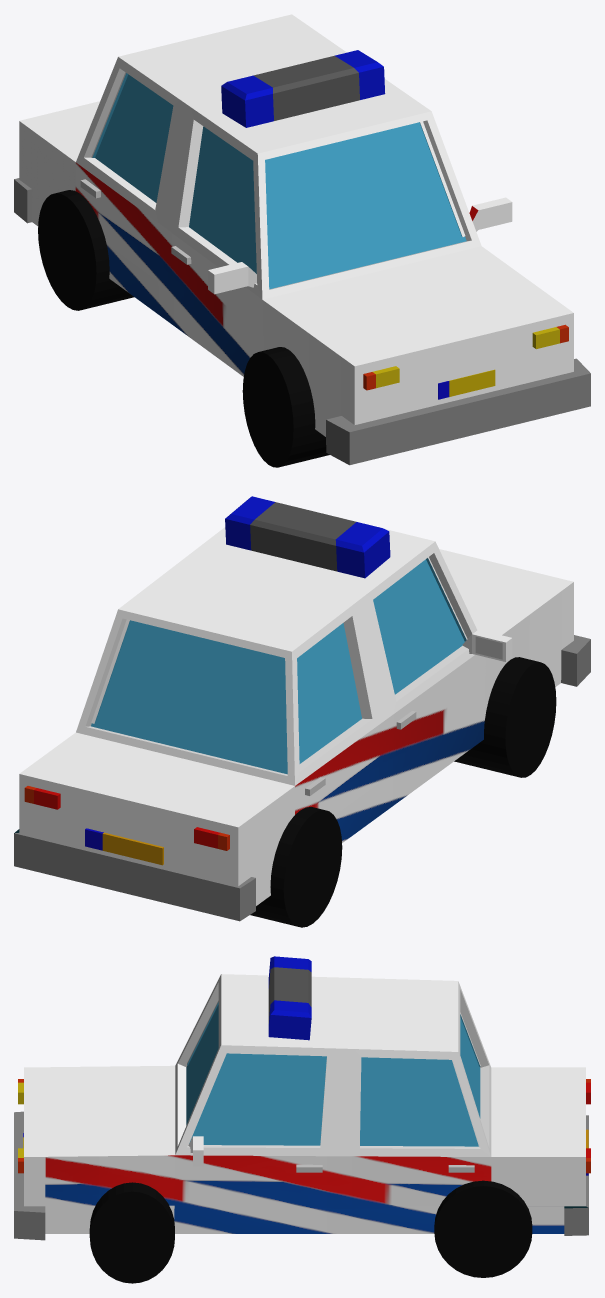
Rendered from PolitieAuto.obj.
The picture shows the model from 3 angles, top to bottom: view 1: azimuth 30°, elevation 25°; view 2: azimuth 150°, elevation 25°; view 3: azimuth 270°, elevation 25°; orthographic projection. The views are drawn at different scales.
Parts seen in each view (by area): view 1: Car.002_Cube.002, Cylinder.008_Cylinder.009, Cylinder.009_Cylinder.010, Kubus.016, Kubus.022, Kubus.017; view 2: Car.002_Cube.002, Cylinder.008_Cylinder.009, Cylinder.009_Cylinder.010, Kubus.021, Kubus.023, Kubus.016; view 3: Car.002_Cube.002, Cylinder.009_Cylinder.010, Cylinder.008_Cylinder.009.
Boxes of the visible parts, x1,y1,x2,y2 form: Car.002_Cube.002: (14,14,590,465); Cylinder.008_Cylinder.009: (242,347,329,467); Cylinder.009_Cylinder.010: (38,190,134,310); Kubus.016: (208,197,512,294); Kubus.022: (363,324,568,390); Kubus.017: (438,369,495,399); Car.002_Cube.002: (14,496,590,921); Cylinder.008_Cylinder.009: (454,657,556,777); Cylinder.009_Cylinder.010: (250,807,342,927); Kubus.021: (85,828,163,865); Kubus.023: (24,786,229,850); Kubus.016: (462,629,512,661); Car.002_Cube.002: (14,956,588,1240); Cylinder.009_Cylinder.010: (434,1180,532,1277); Cylinder.008_Cylinder.009: (89,1182,174,1283).
Size of the model in its own units: 4.87 by 4.58 by 9.75.
